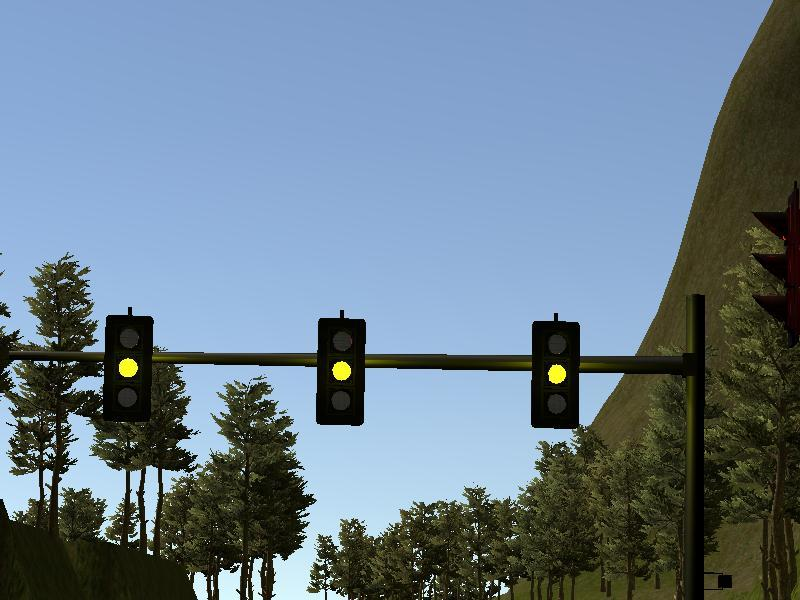Yellow: (317, 317, 364, 425), (104, 312, 150, 422), (532, 322, 579, 427)
